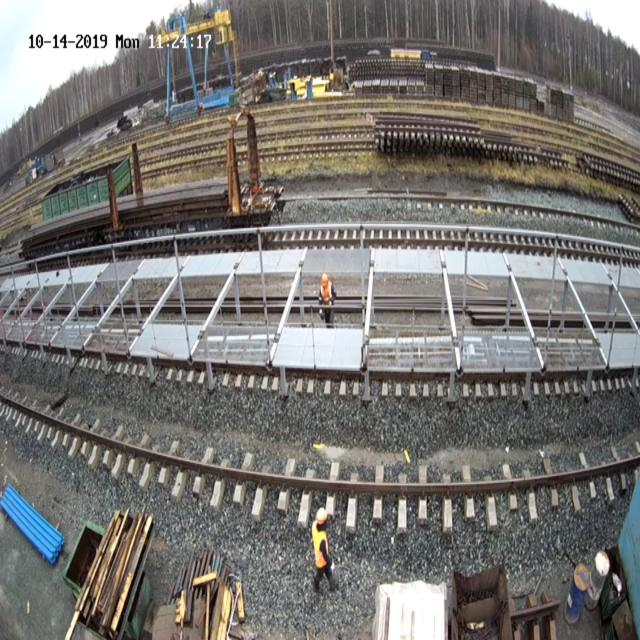Helmet: (316, 507, 327, 523), (321, 273, 328, 285)
Person: (312, 507, 336, 592), (318, 272, 336, 328)
